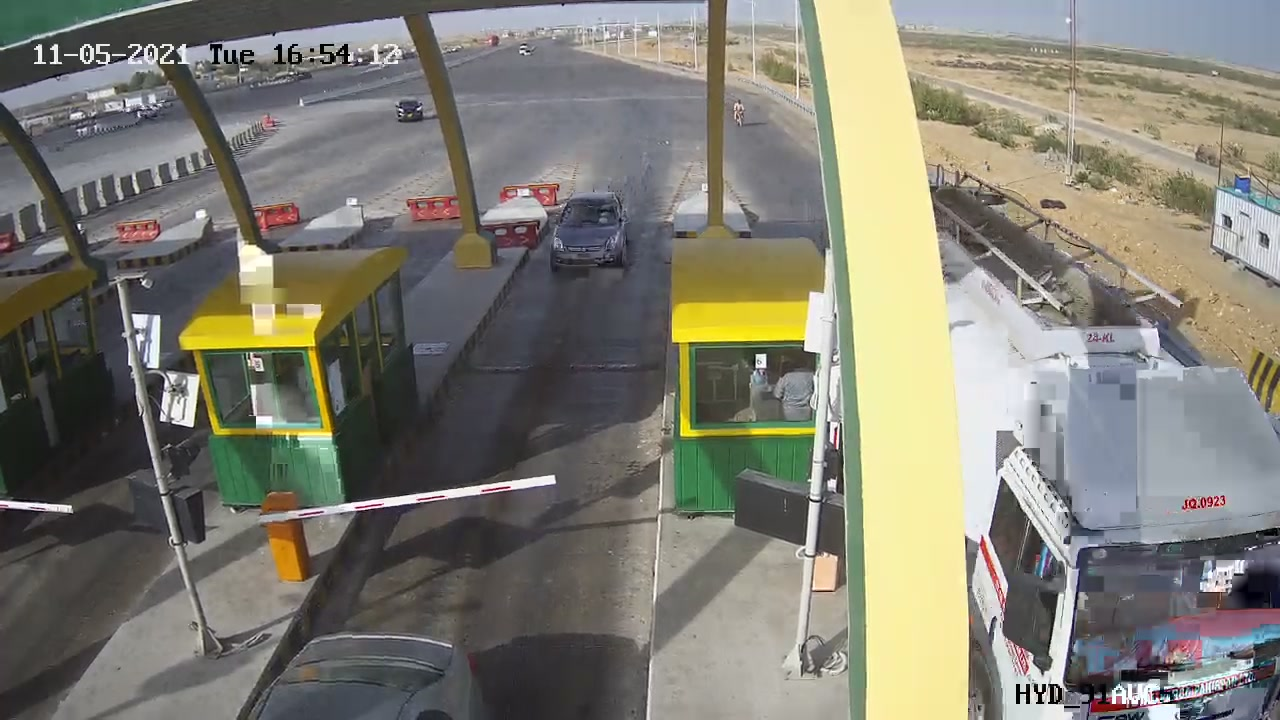F1: (526, 172, 654, 288)
